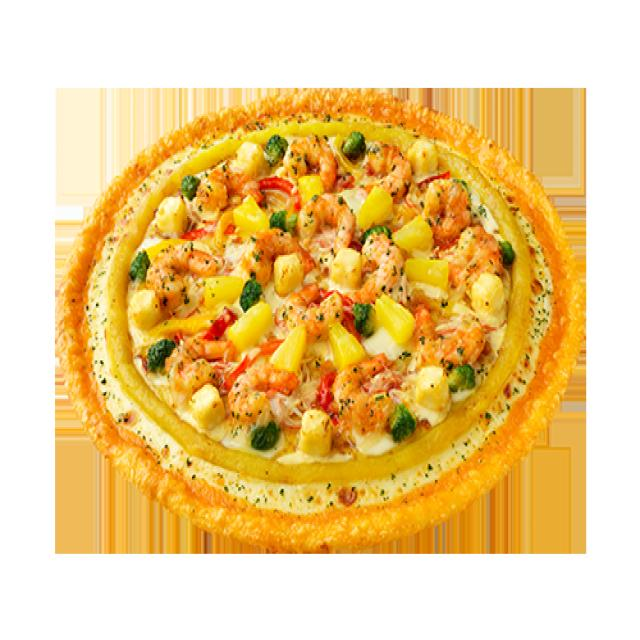Wet Waste: (52, 74, 590, 568)
